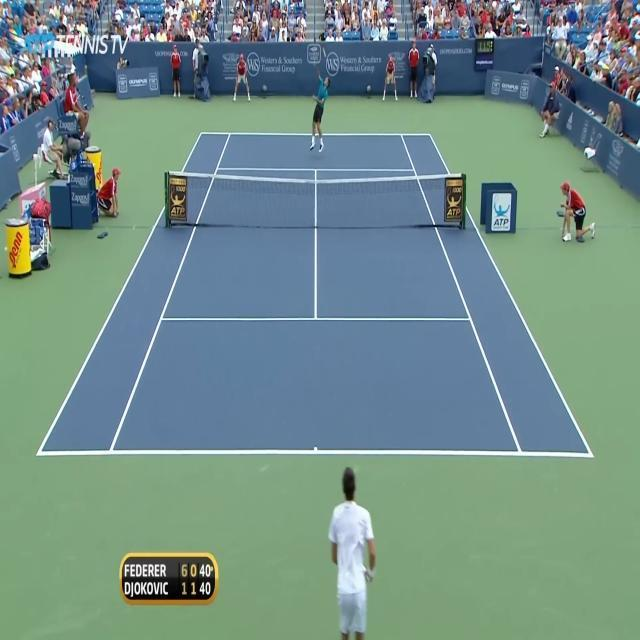court: (35, 131, 595, 459)
net: (162, 168, 470, 229)
player: (328, 466, 377, 638)
